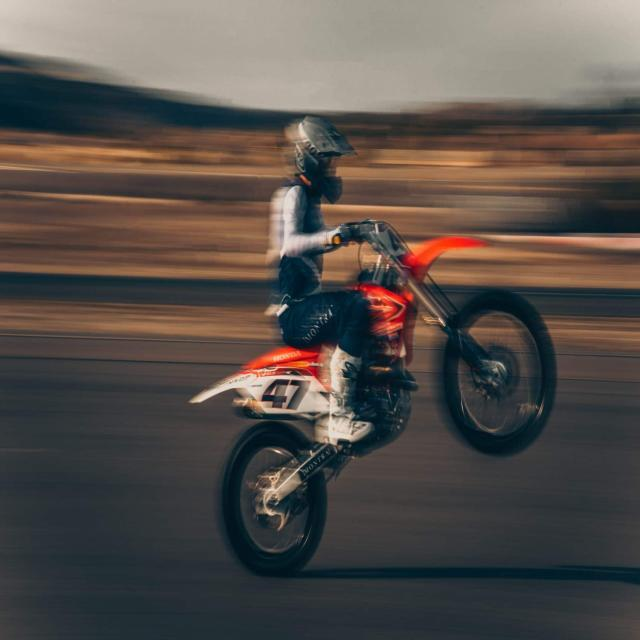Wheeling: (180, 110, 558, 572)
